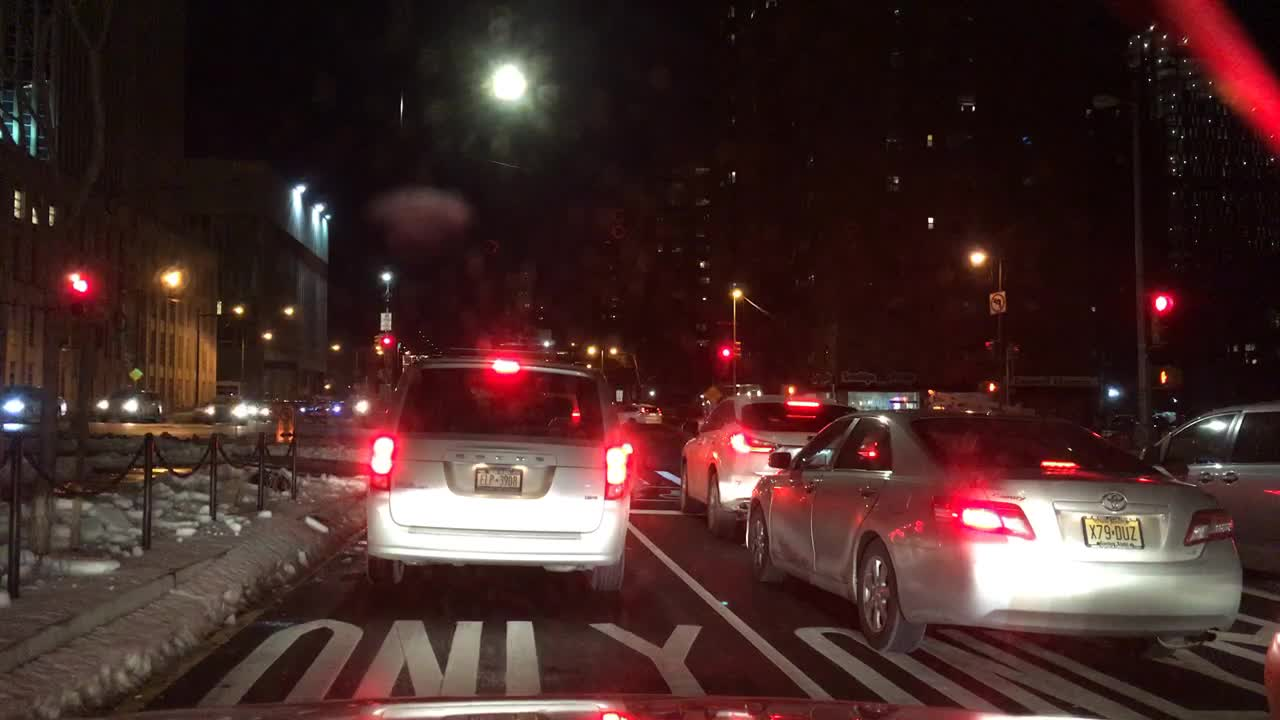car: (742, 408, 1244, 658), (363, 353, 633, 597), (675, 394, 864, 535), (1136, 402, 1278, 575), (687, 381, 772, 423), (1, 382, 67, 426), (1099, 411, 1170, 447), (94, 388, 167, 422), (929, 397, 1041, 419), (1261, 627, 1278, 718), (618, 401, 665, 431), (203, 393, 246, 422), (247, 397, 281, 421), (352, 394, 379, 417), (319, 397, 347, 416)
traffic light: (1149, 286, 1176, 346), (71, 271, 97, 298), (1153, 366, 1181, 391), (981, 334, 999, 369), (1006, 338, 1025, 366), (719, 338, 733, 359), (381, 336, 397, 352), (732, 338, 743, 356), (370, 335, 378, 351)
traffic sign: (277, 402, 296, 443), (986, 288, 1006, 317), (377, 309, 392, 332), (127, 367, 143, 381)
